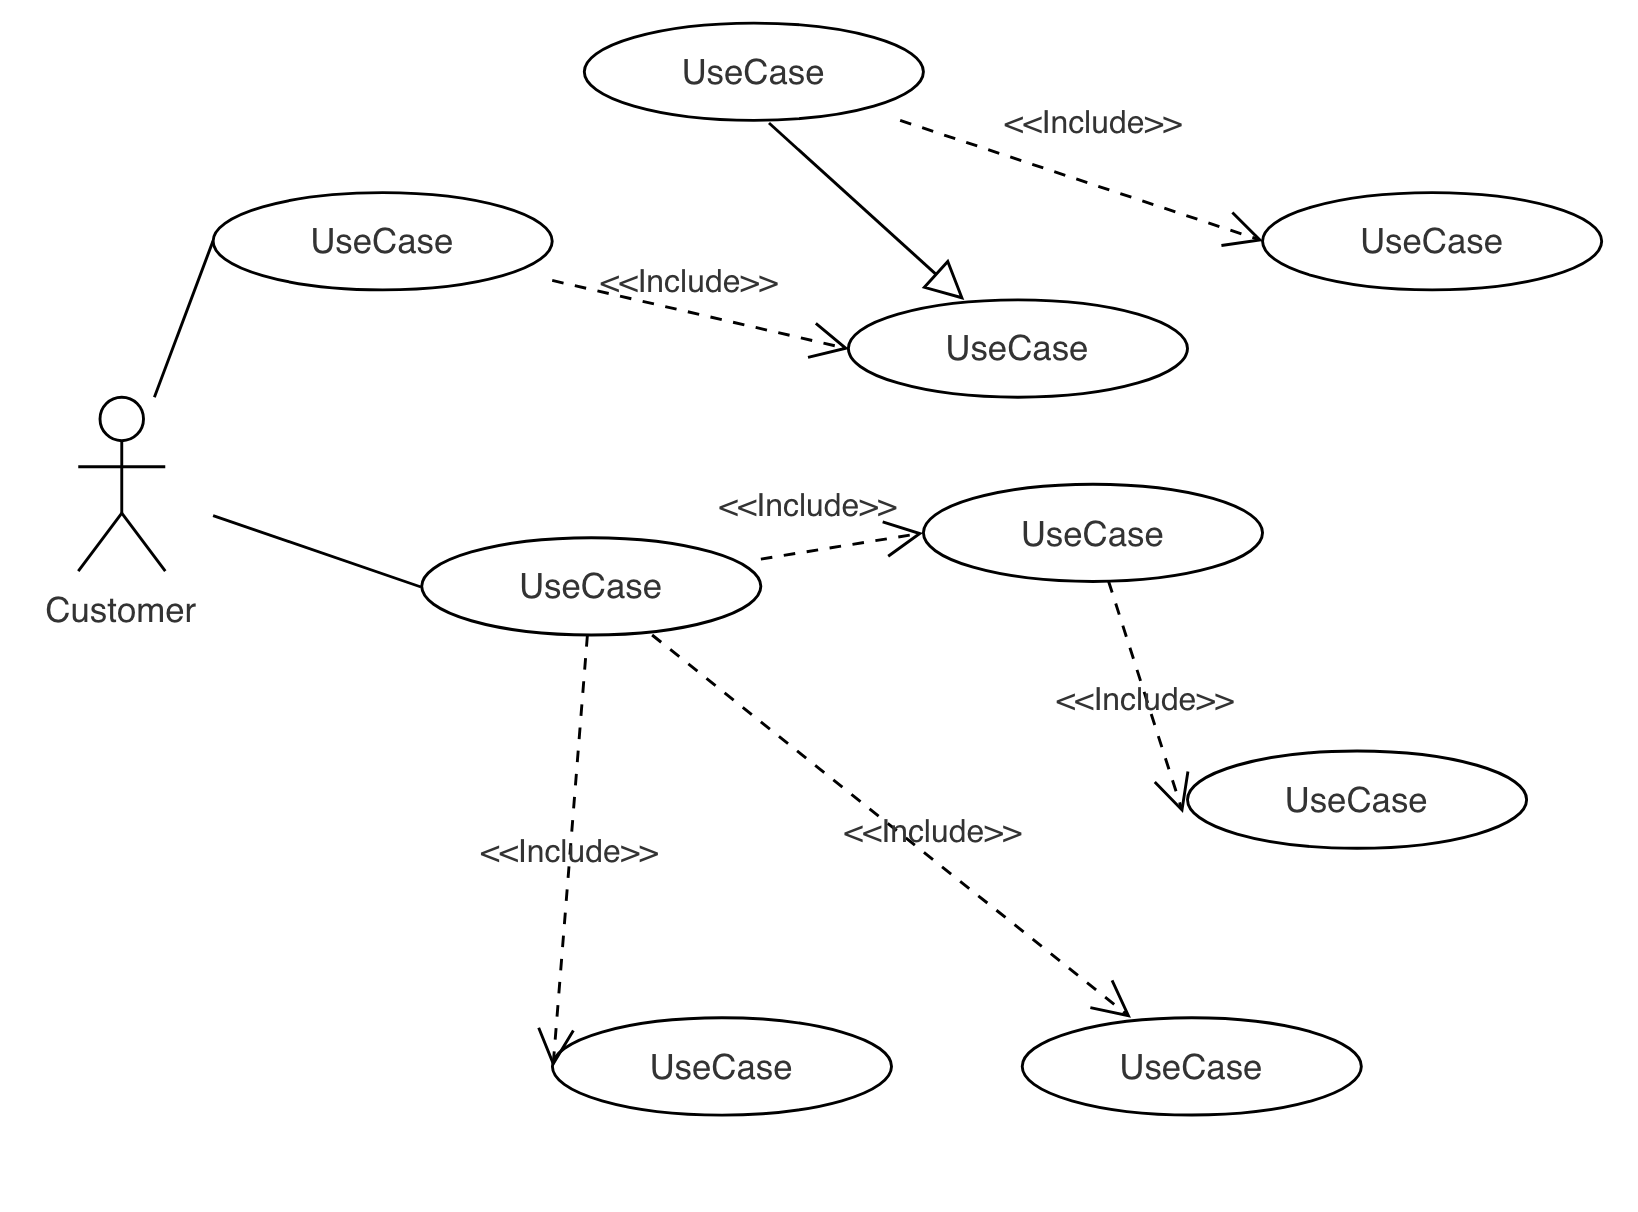actor: (73, 393, 179, 581)
association: (652, 631, 1129, 1017), (893, 115, 1264, 252), (550, 275, 851, 364), (1107, 581, 1196, 811), (535, 634, 579, 1063), (206, 509, 423, 591), (151, 234, 216, 397), (759, 518, 923, 572)
generalization: (766, 118, 965, 300)
text: (37, 587, 204, 634), (305, 215, 465, 264), (711, 484, 899, 525), (644, 1044, 807, 1089), (840, 814, 1030, 852), (1002, 104, 1185, 144), (514, 564, 669, 609), (1354, 220, 1512, 264), (1054, 684, 1237, 721), (477, 834, 667, 870), (1280, 778, 1437, 820), (683, 48, 826, 94), (1109, 1046, 1269, 1087), (1018, 512, 1176, 551), (942, 328, 1095, 369), (598, 269, 792, 300)
use_case: (207, 187, 557, 297), (547, 1012, 897, 1120), (843, 295, 1193, 404), (580, 19, 928, 127), (1260, 188, 1606, 297), (921, 480, 1266, 588), (417, 533, 766, 640), (1019, 1013, 1364, 1120), (1184, 746, 1532, 852)
